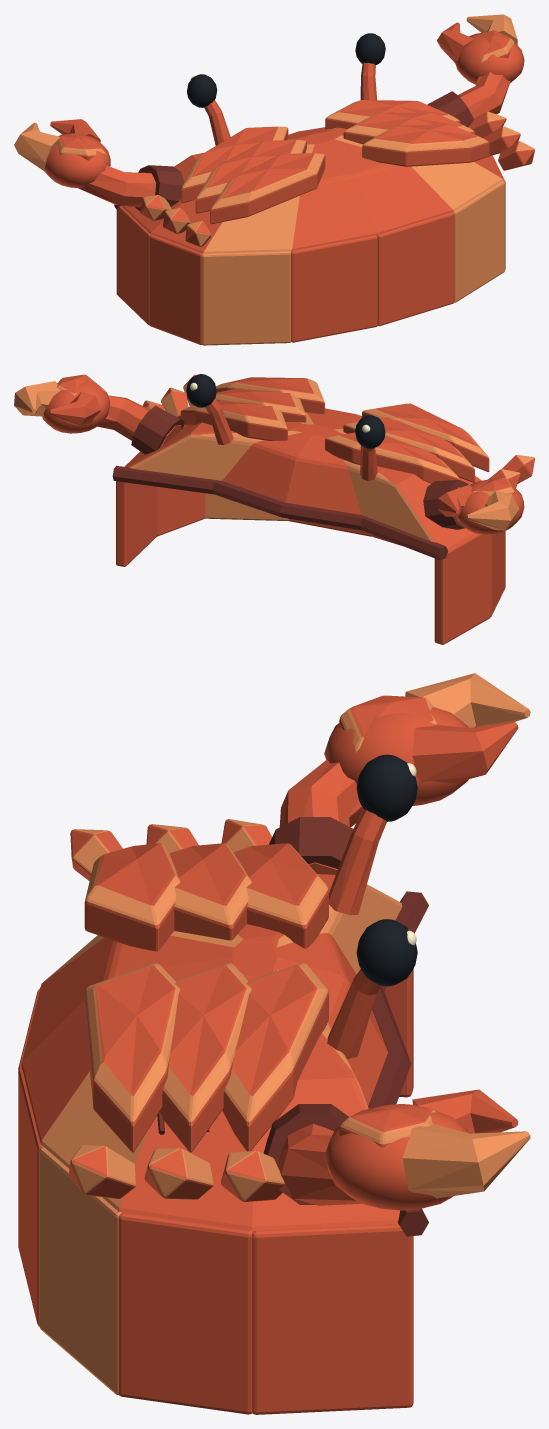
File: crab_helmet.fbx
3 renders of one model, top to bottom at view 1: azimuth 30°, elevation 25°; view 2: azimuth 150°, elevation 25°; view 3: azimuth 270°, elevation 25°, orthographic. The views are drawn at different scales.
Visible parts, largest first — view 1: crab_helmet_armor; view 2: crab_helmet_armor; view 3: crab_helmet_armor.
Part boxes in pixels (bbox=[...]): crab_helmet_armor: bbox=[14, 14, 534, 345]; crab_helmet_armor: bbox=[14, 374, 534, 644]; crab_helmet_armor: bbox=[18, 673, 530, 1414].
Size of the model in its own units: 6.36 by 2.51 by 2.84.
1 material, 1 textured.
